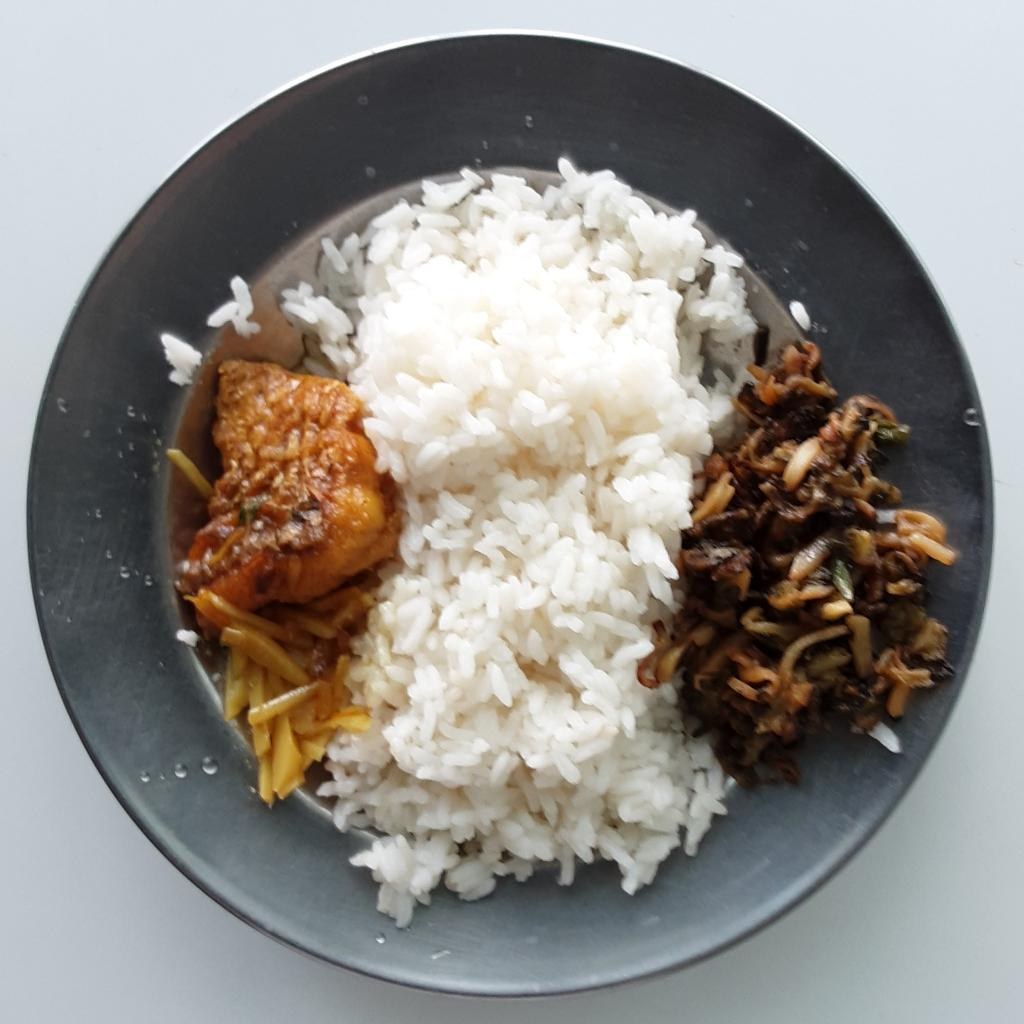fish: (174, 360, 401, 609)
korola-vaji: (641, 341, 959, 787)
potato: (194, 583, 375, 808)
rice: (278, 151, 766, 930)
